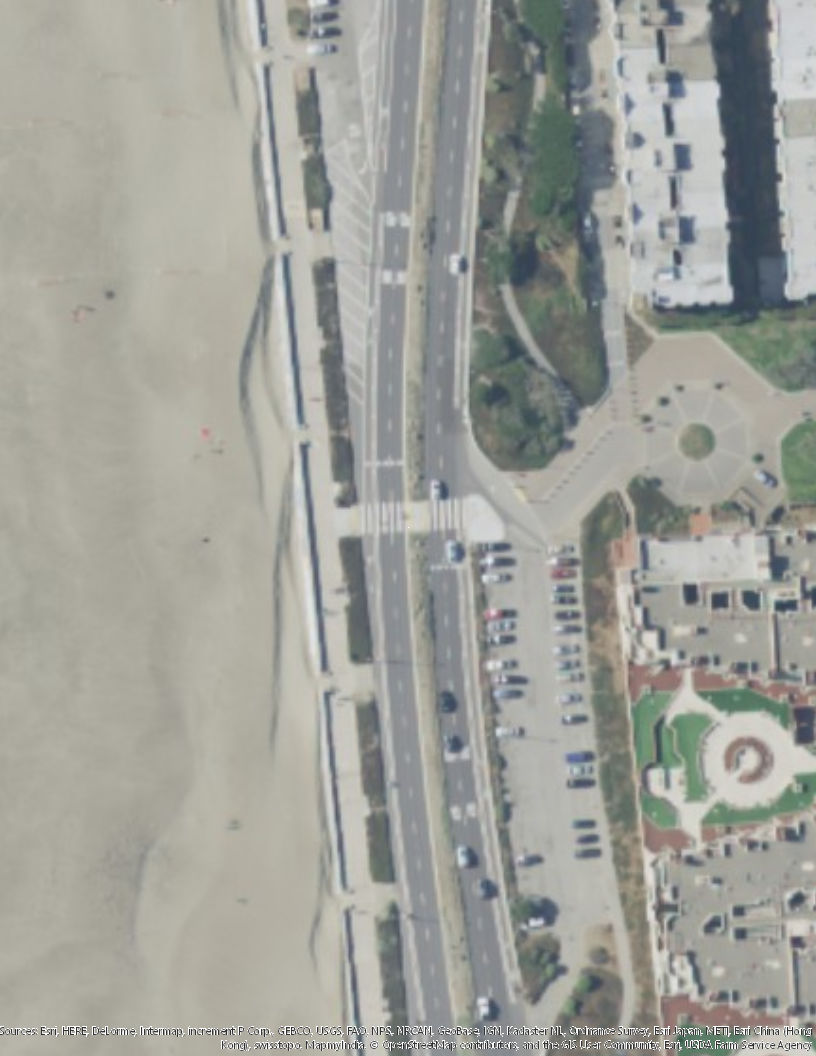zebracross: (363, 501, 407, 533), (430, 497, 470, 530)
